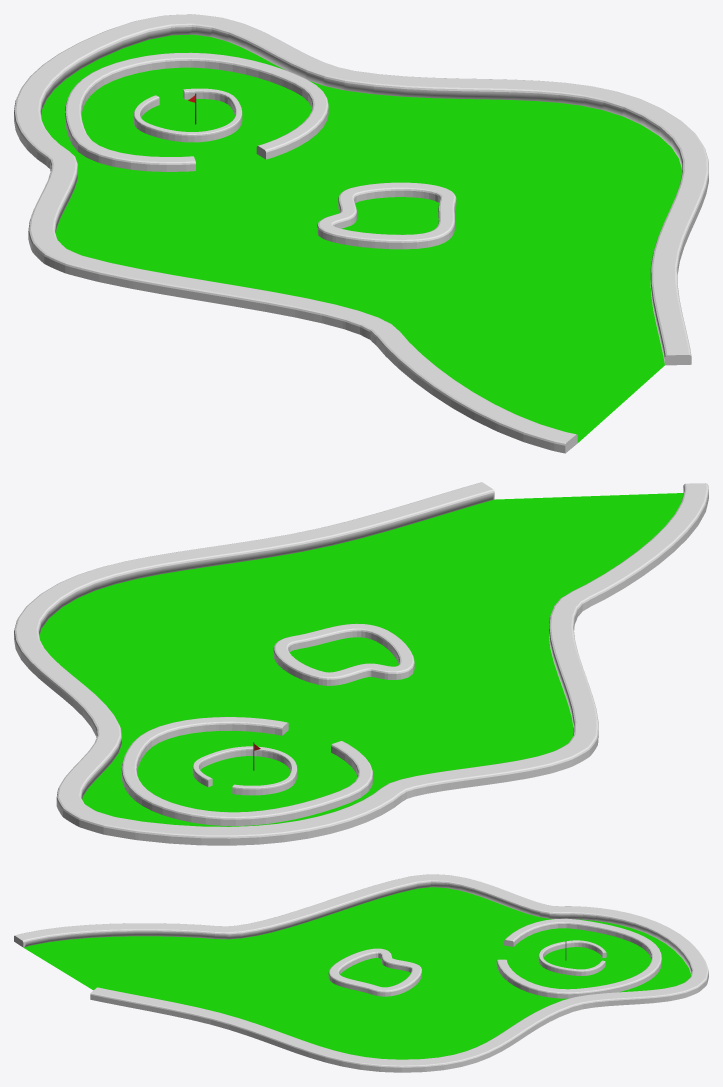
The picture shows the model from 3 angles, top to bottom: view 1: azimuth 30°, elevation 25°; view 2: azimuth 150°, elevation 25°; view 3: azimuth 270°, elevation 25°; orthographic projection. The views are drawn at different scales.
Visible parts, largest first — view 1: course, walls; view 2: course, walls; view 3: course, walls.
Part boxes in pixels (x1=…): course: x1=41, y1=34, x2=682, y2=442; walls: x1=14, y1=14, x2=708, y2=453; course: x1=39, y1=493, x2=683, y2=826; walls: x1=14, y1=482, x2=708, y2=845; course: x1=24, y1=887, x2=690, y2=1059; walls: x1=14, y1=874, x2=708, y2=1072.
Bounding box in the file's own units: 3459 × 191 × 5271.
